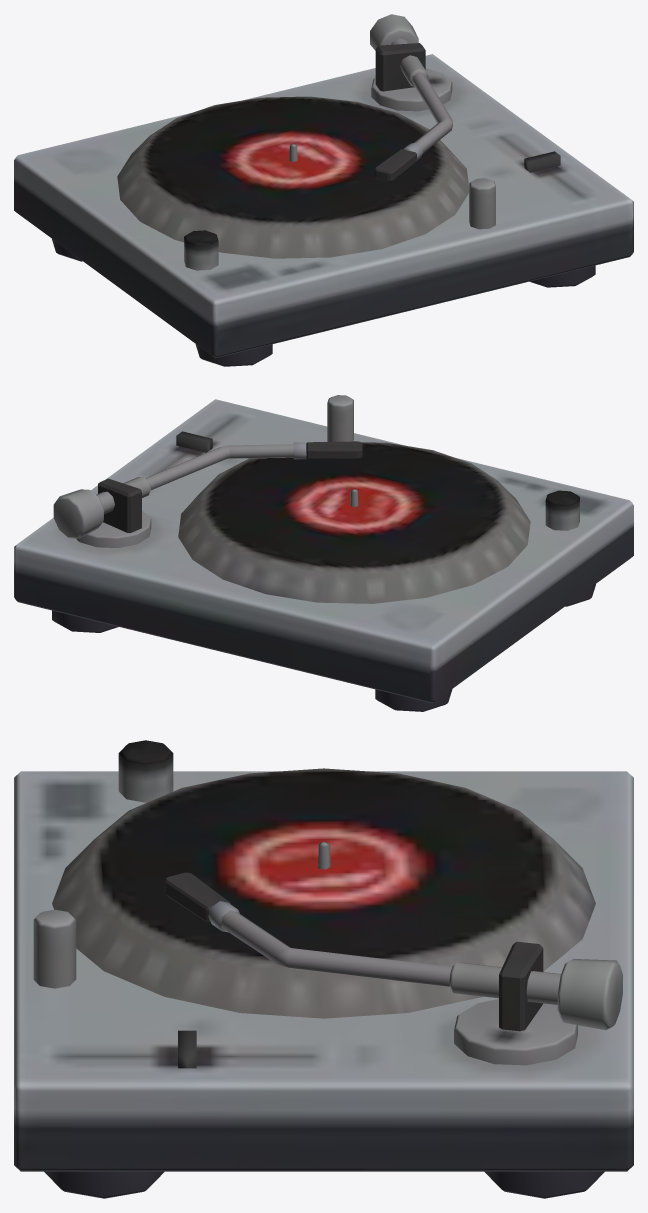
3 renders of one model, top to bottom at view 1: azimuth 30°, elevation 25°; view 2: azimuth 150°, elevation 25°; view 3: azimuth 270°, elevation 25°, orthographic. The views are drawn at different scales.
Bounding box in the file's own units: 7.37 × 2.29 × 6.1.
1 material, 1 textured.
